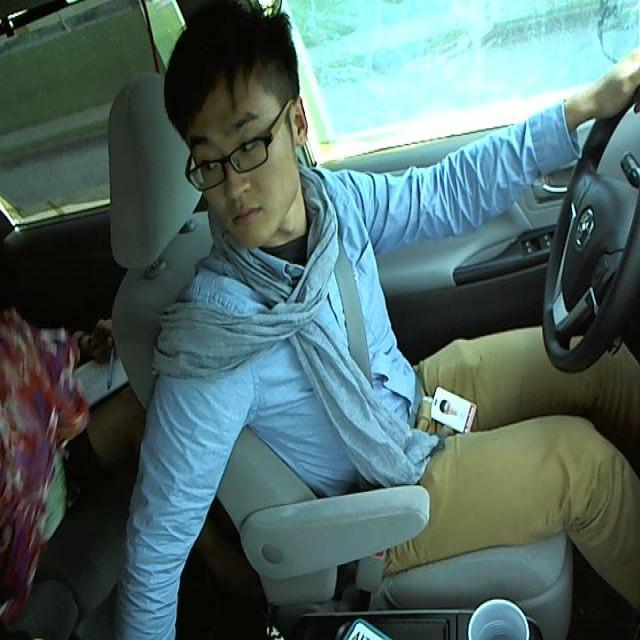seatbelt: (326, 248, 422, 476)
